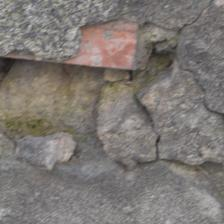Crack: (130, 92, 165, 164), (181, 71, 223, 119)
